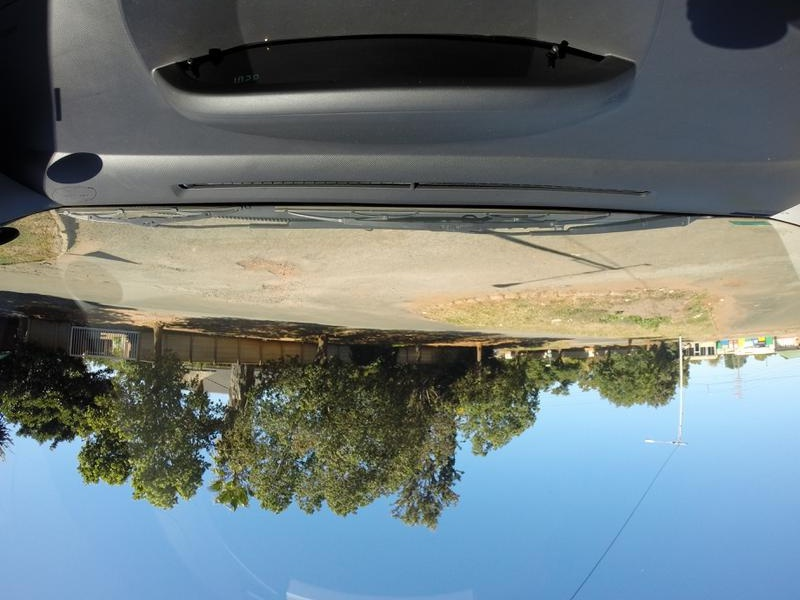pothole: (238, 256, 302, 273), (263, 281, 298, 289), (167, 265, 191, 270)
